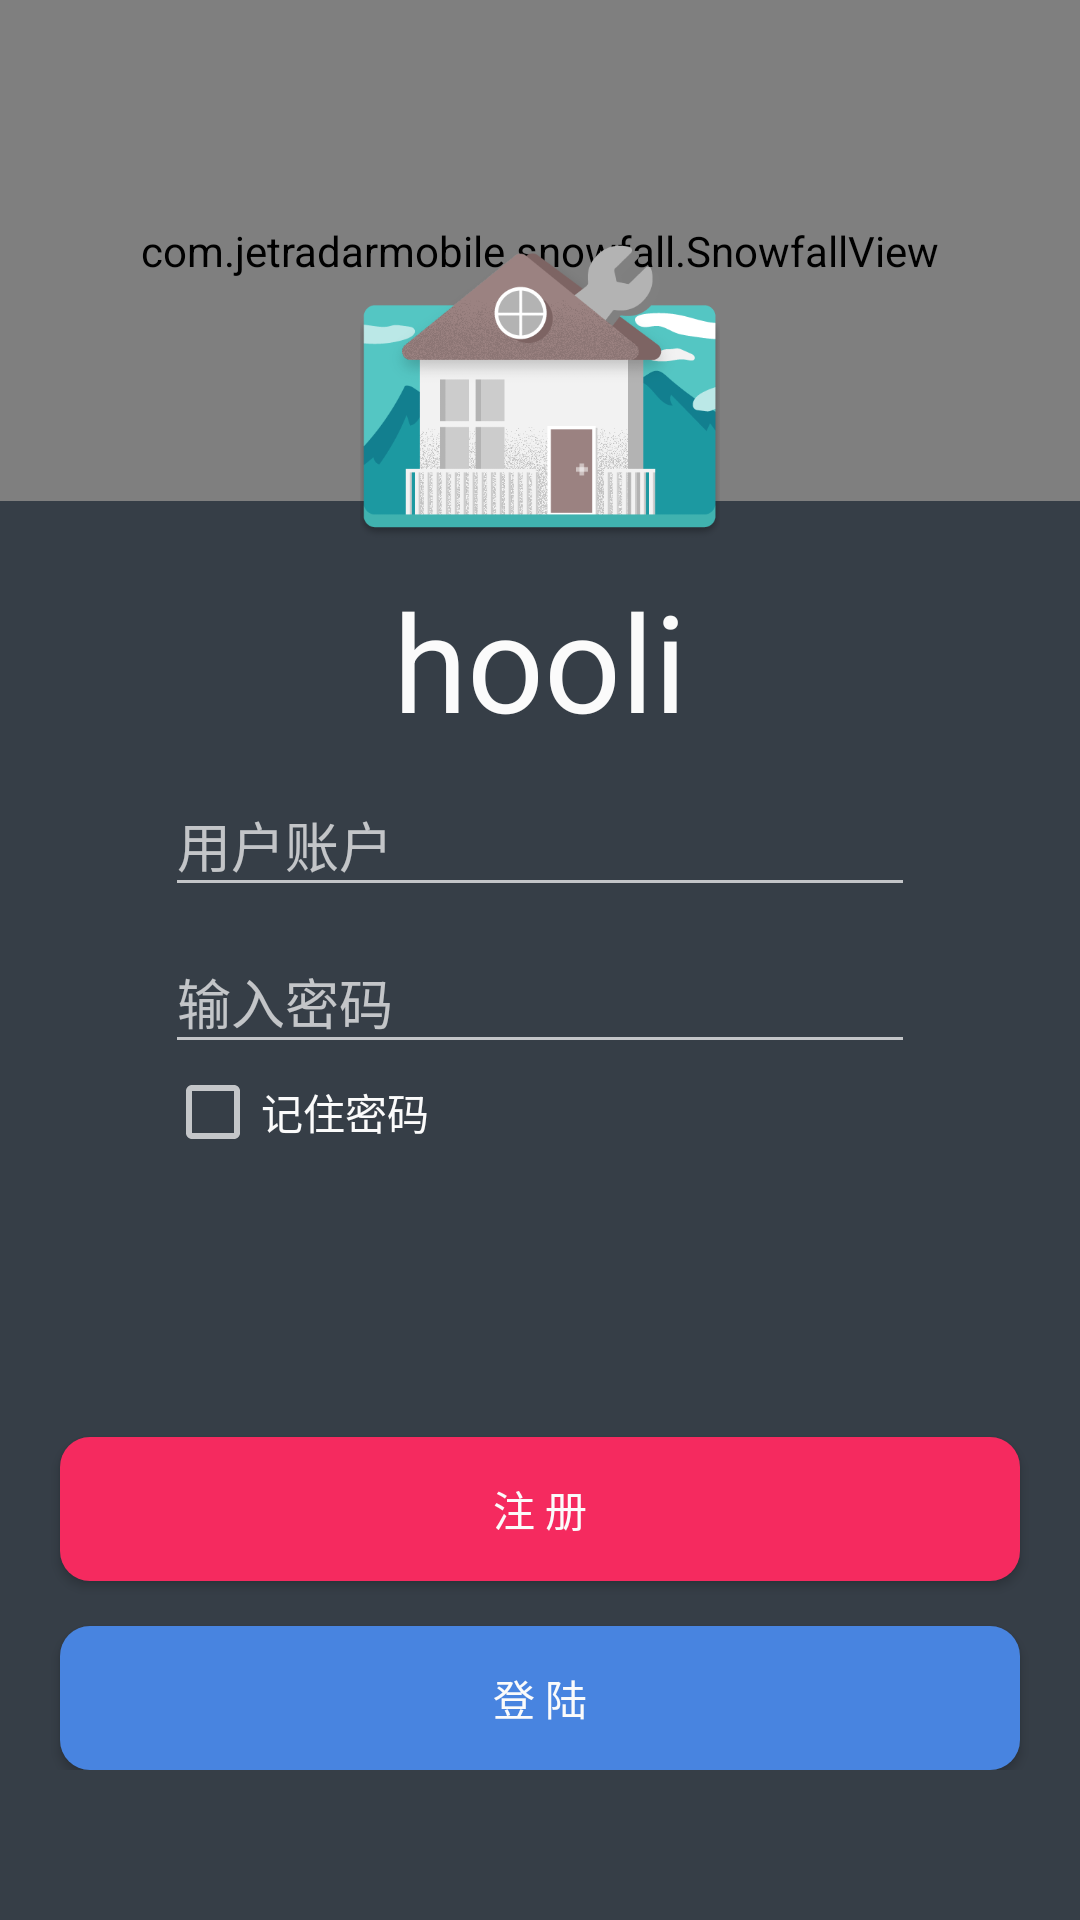

Screen size 1080px×1920px. Icon name, then its center in pixels as (x=x, y=y):
house: (x=540, y=402)
